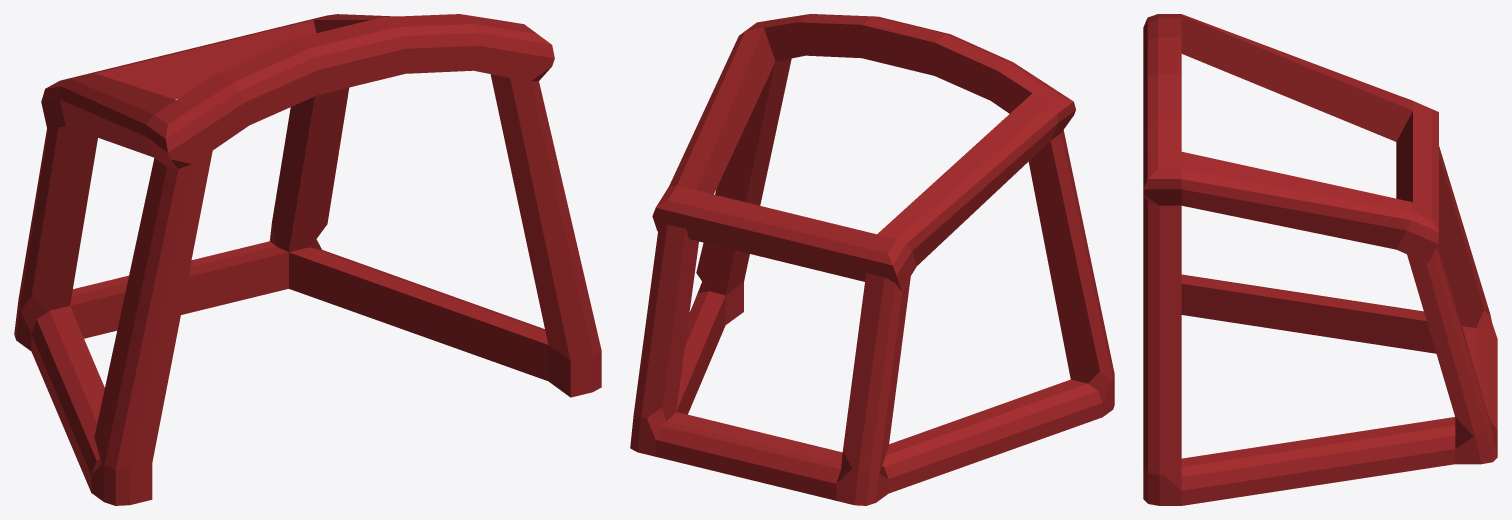
File: Cancha.fbx
3 views of the same model, side by side, from view 1: azimuth 30°, elevation 25°; view 2: azimuth 150°, elevation 25°; view 3: azimuth 270°, elevation 25° (orthographic). The views are drawn at different scales.
Parts seen in each view (by area): view 1: Cube.004; view 2: Cube.004; view 3: Cube.004.
Part boxes in pixels (x1,y1,x2,y2): Cube.004: (14,14,601,505); Cube.004: (630,14,1114,505); Cube.004: (1143,14,1497,505).
Bounding box in the file's own units: 667 × 520 × 482.
